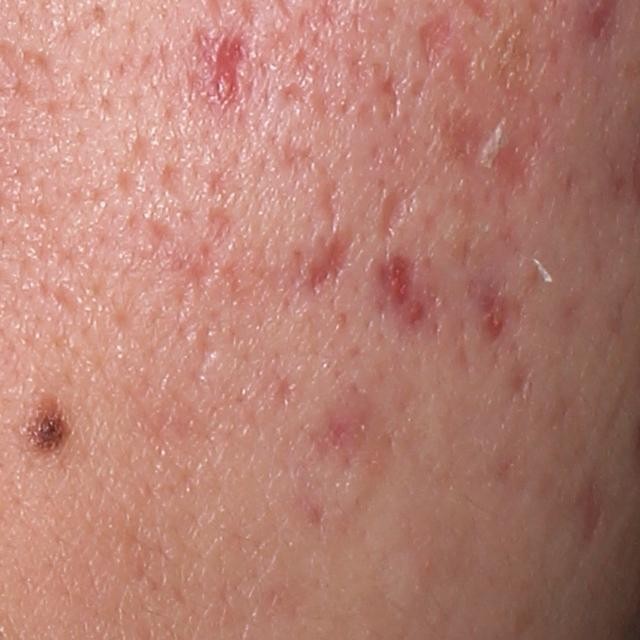atrophic_scar: (441, 107, 539, 196), (303, 224, 361, 304), (413, 15, 470, 92), (571, 466, 610, 559), (214, 34, 245, 104), (317, 168, 346, 241), (155, 160, 192, 217), (376, 179, 410, 240), (208, 203, 241, 261), (382, 68, 404, 122), (506, 362, 535, 401)
nevus: (24, 389, 75, 463)
